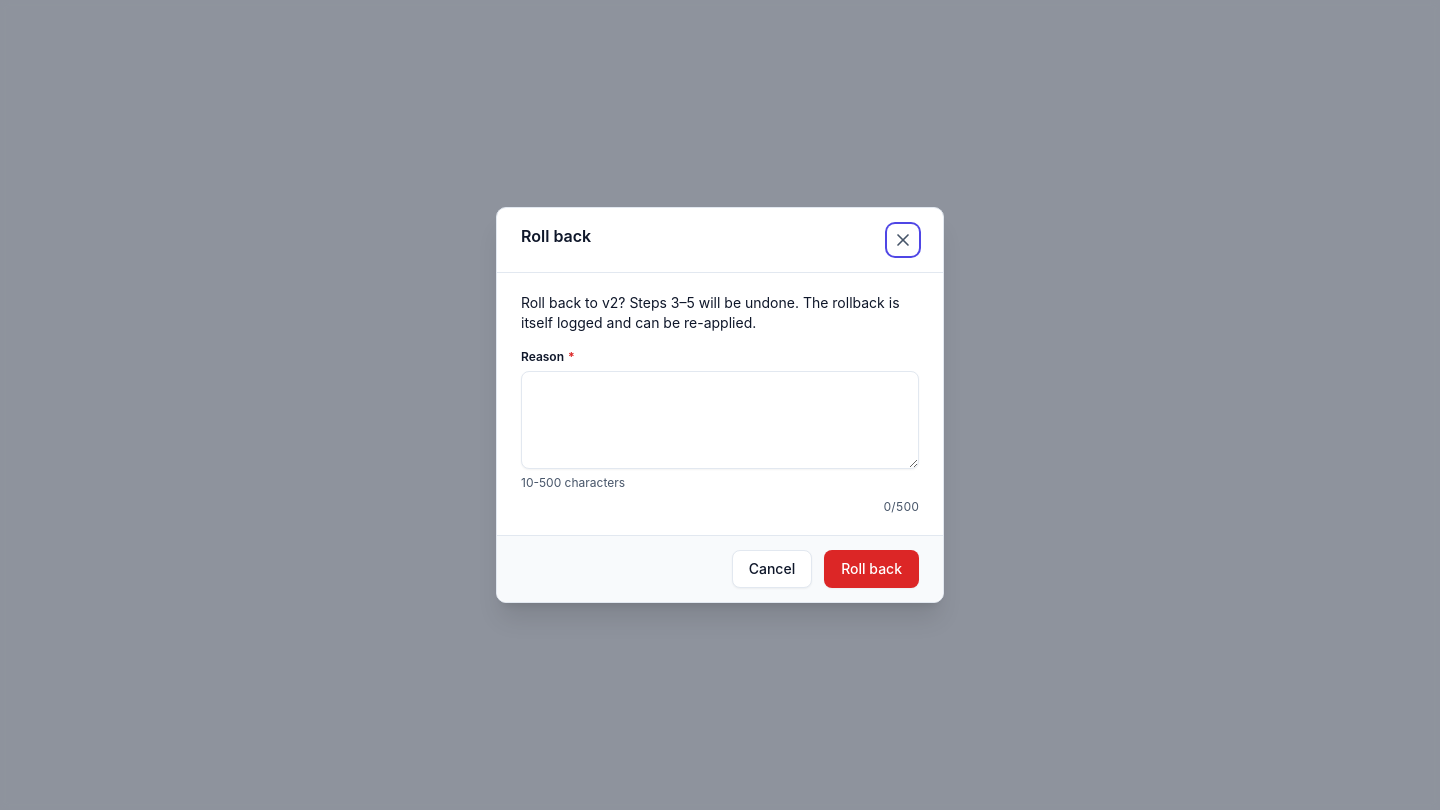
Test: RollbackModal reason validation › refuses a reason of nine characters
This screenshot has width=1440, height=810.
Type "too short" into the text box labelled "Reason*".
click(720, 420); type("too short")  # box [521,371,919,469]
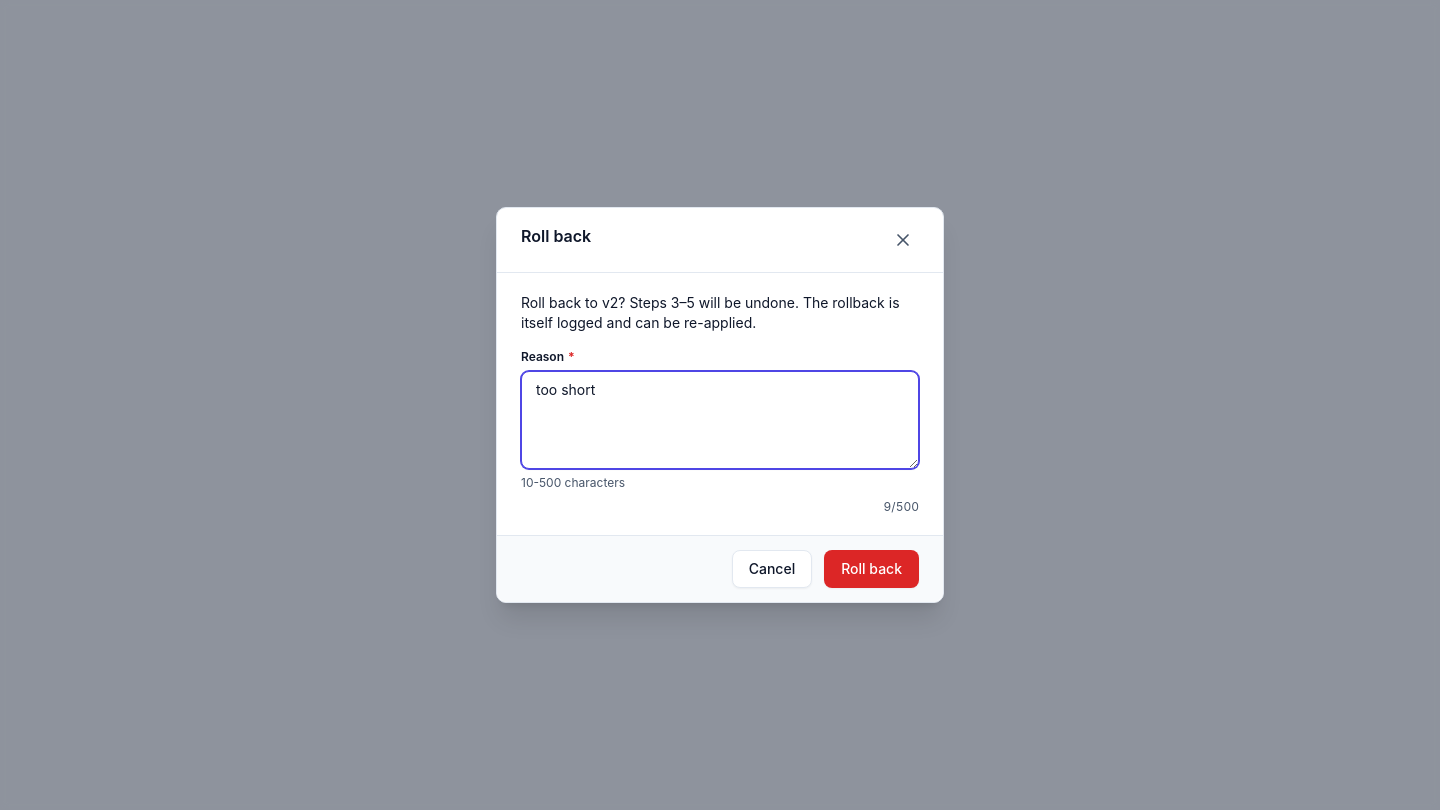
Click the button "Roll back".
click(872, 569)  # box [824,550,919,588]
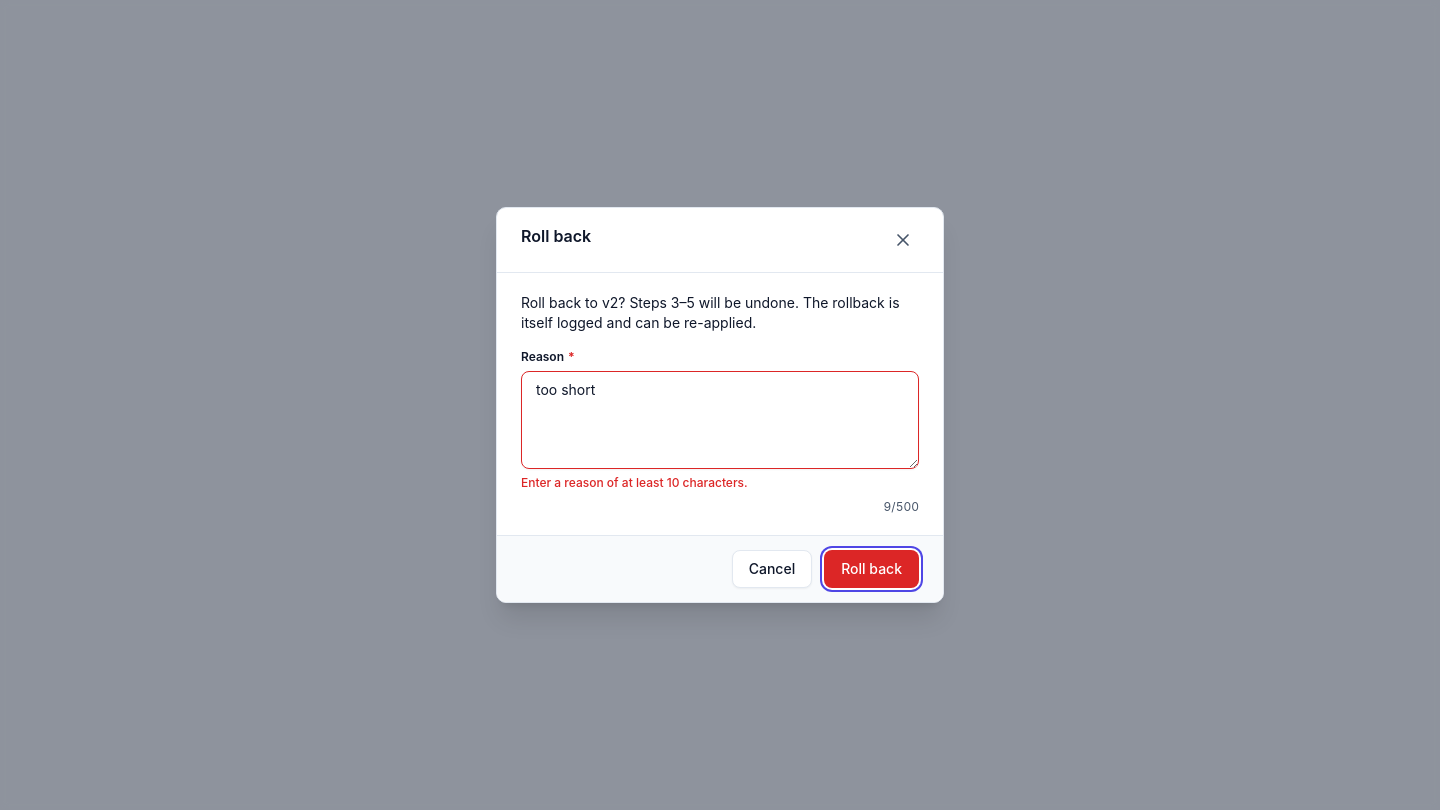
Now the message reads "Enter a reason of at least 10 characters.", box [521,475,748,490]
